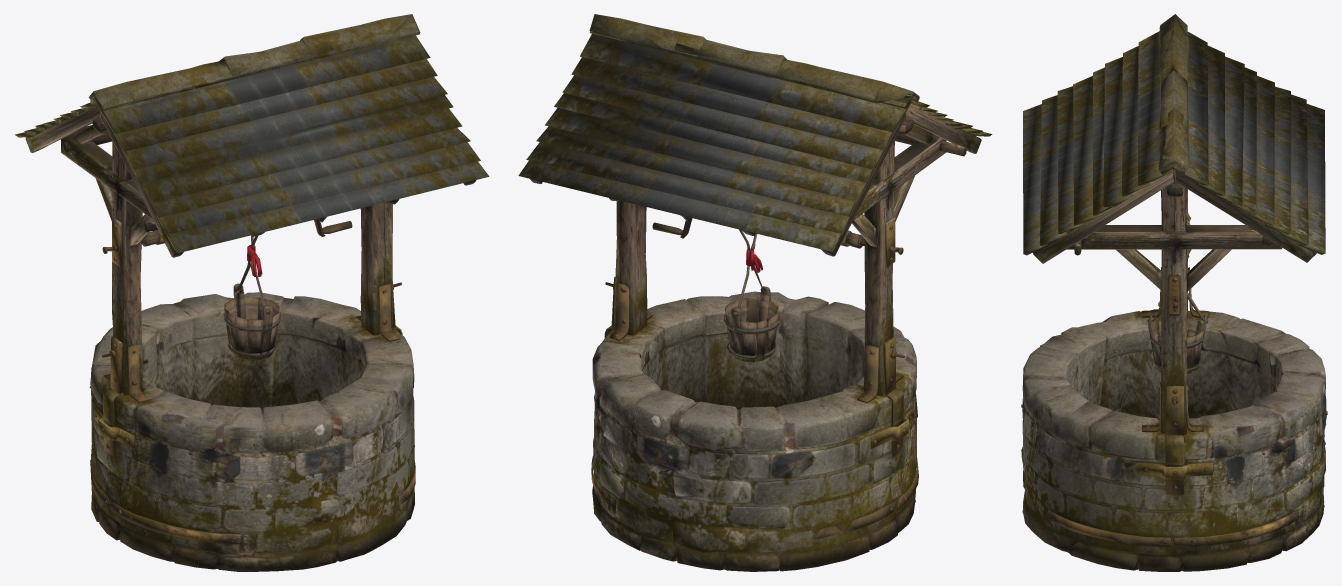
The model's file is vil-well.glb.
3 views of the same model, side by side, from view 1: azimuth 30°, elevation 25°; view 2: azimuth 150°, elevation 25°; view 3: azimuth 270°, elevation 25° (orthographic). The views are drawn at different scales.
Size of the model in its own units: 0.7012 by 0.9541 by 0.6226.
1 material, 1 textured.
